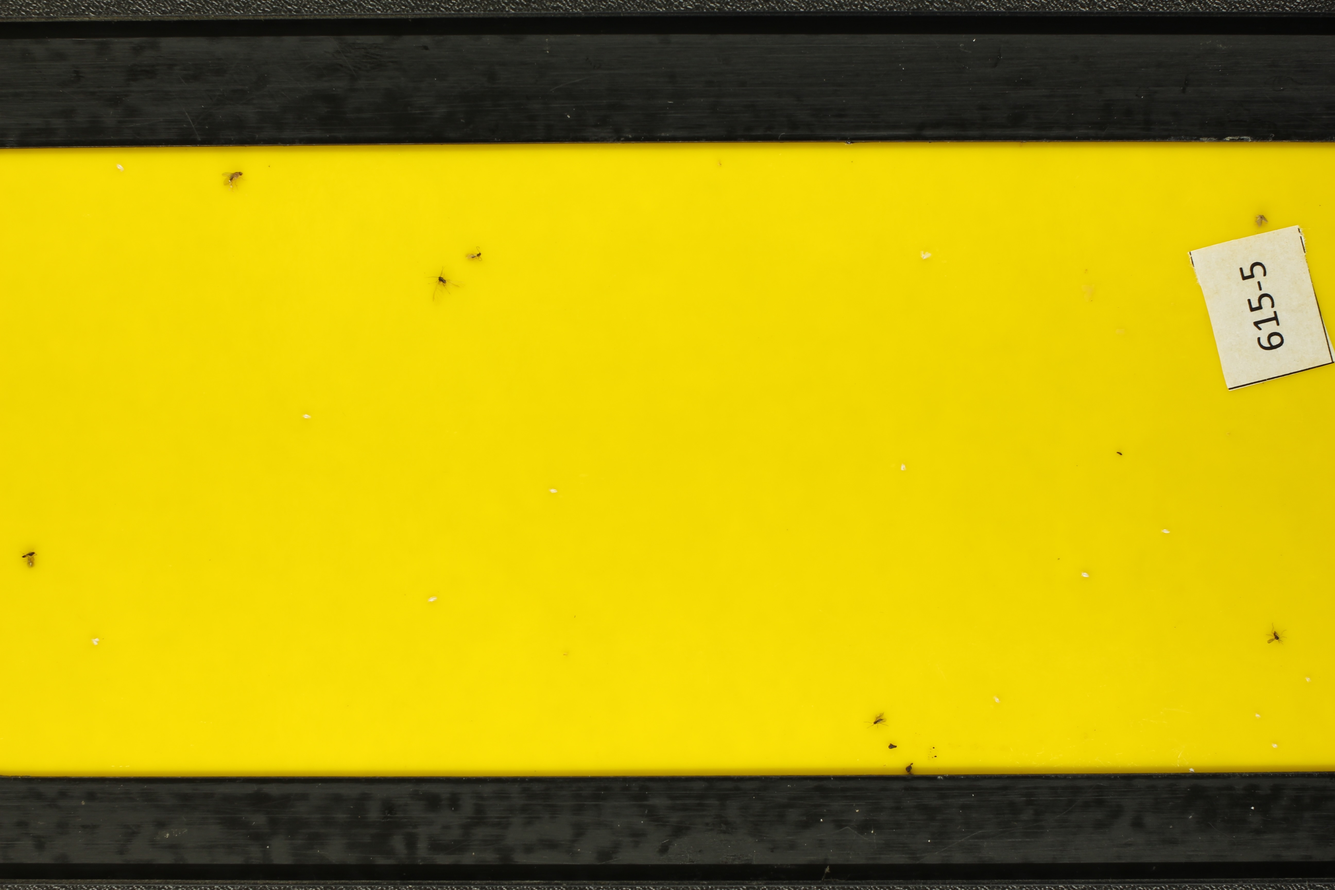WF: (918, 247, 933, 263), (89, 633, 105, 648), (1268, 739, 1284, 751), (1159, 525, 1174, 537), (545, 485, 563, 495), (301, 411, 314, 423), (425, 594, 439, 605), (896, 462, 910, 473), (1251, 711, 1265, 722), (991, 694, 1003, 706), (1184, 764, 1200, 773), (1302, 674, 1315, 685), (1079, 569, 1091, 580), (113, 163, 126, 173)
